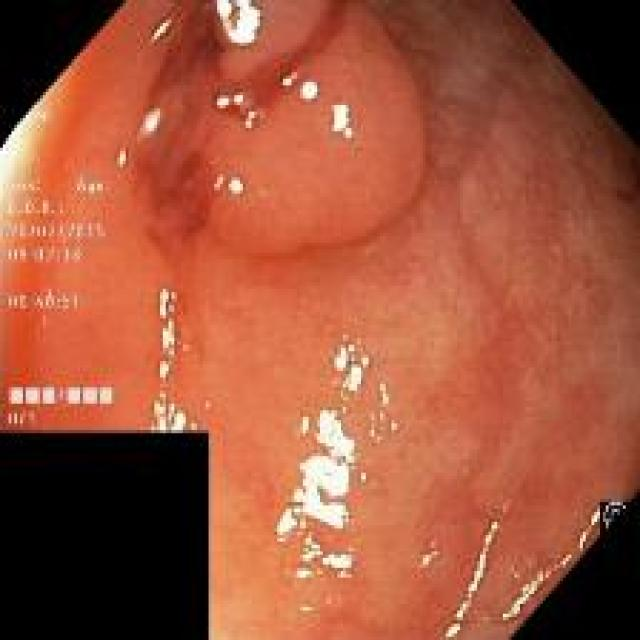Polyps: (138, 3, 425, 255)
